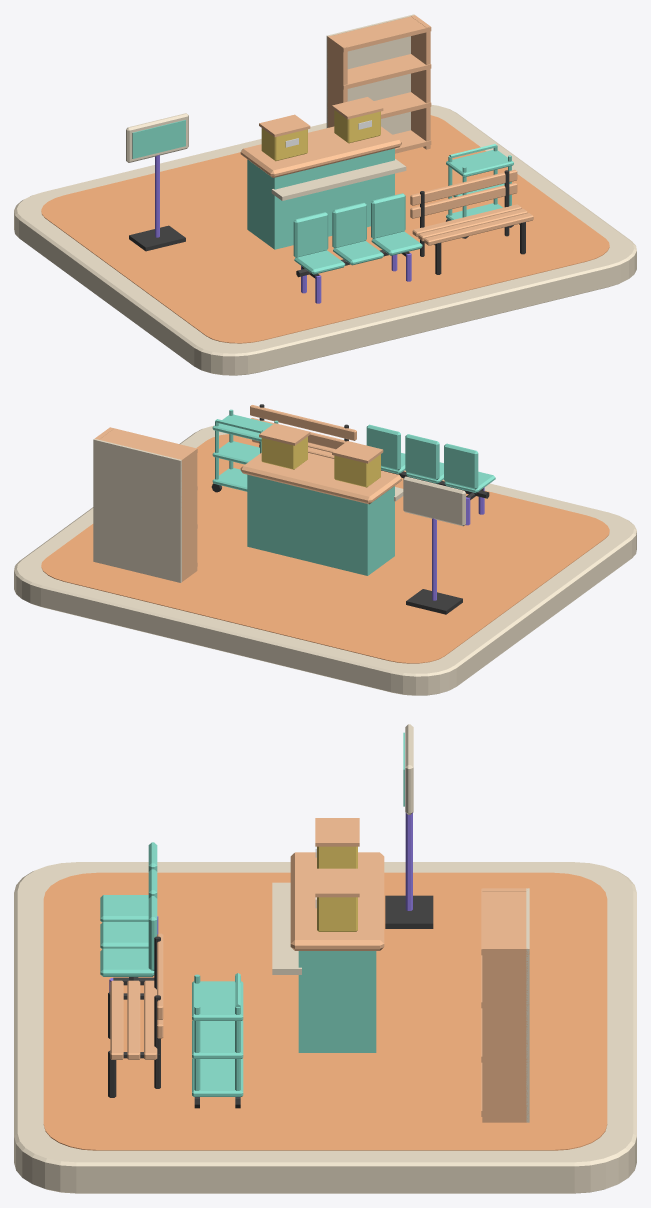
3 renders of one model, top to bottom at view 1: azimuth 30°, elevation 25°; view 2: azimuth 150°, elevation 25°; view 3: azimuth 270°, elevation 25°, orthographic. The views are drawn at different scales.
Visible parts, largest first — view 1: COM-02 Floor Surface, COM-01 Rounded Base Direct, Counter body, Countertop, Back.003, Side.001, Visitor shelf, Shelf.003, Shelf.002, Side, Inset, Back (+18 smaller); view 2: COM-02 Floor Surface, COM-01 Rounded Base Direct, Back.003, Counter body, Countertop, Sign panel, Side, Back, Back.001, Shelf.003, Back slat.001, Box (+9 smaller); view 3: COM-02 Floor Surface, COM-01 Rounded Base Direct, Counter body, Side.001, Countertop, Shelf.003, Visitor shelf, Tray.002, Tray, Tray.001, Foot, Seat.002 (+12 smaller).
Part boxes in pixels (x1,y1,x2,y2): COM-02 Floor Surface: [41, 115, 609, 343]; COM-01 Rounded Base Direct: [14, 104, 636, 375]; Counter body: [247, 148, 394, 249]; Countertop: [240, 126, 401, 177]; Back.003: [326, 14, 414, 134]; Side.001: [411, 15, 430, 149]; Visitor shelf: [271, 159, 406, 200]; Shelf.003: [333, 16, 431, 52]; Shelf.002: [343, 54, 431, 89]; Side: [327, 35, 347, 127]; Inset: [132, 120, 185, 158]; Back: [293, 212, 328, 257]; COM-02 Floor Surface: [41, 434, 609, 663]; COM-01 Rounded Base Direct: [14, 425, 636, 695]; Back.003: [93, 438, 181, 582]; Counter body: [247, 474, 394, 575]; Countertop: [240, 452, 401, 504]; Sign panel: [403, 476, 465, 526]; Side: [178, 447, 197, 581]; Back: [444, 443, 478, 489]; Back.001: [405, 434, 439, 479]; Shelf.003: [99, 427, 197, 461]; Back slat.001: [250, 405, 356, 440]; Box: [334, 454, 380, 487]; COM-02 Floor Surface: [43, 872, 607, 1150]; COM-01 Rounded Base Direct: [14, 862, 636, 1193]; Counter body: [298, 951, 376, 1052]; Side.001: [482, 946, 527, 1122]; Countertop: [290, 852, 384, 950]; Shelf.003: [481, 888, 529, 955]; Visitor shelf: [272, 882, 301, 974]; Tray.002: [192, 981, 243, 1020]; Tray: [192, 1058, 243, 1096]; Tray.001: [192, 1020, 243, 1058]; Foot: [385, 895, 433, 928]; Seat.002: [100, 948, 154, 976].
Size of the model in its own units: 6 by 1.9 by 5.2.
Materials: 1 (1 with a texture image).
